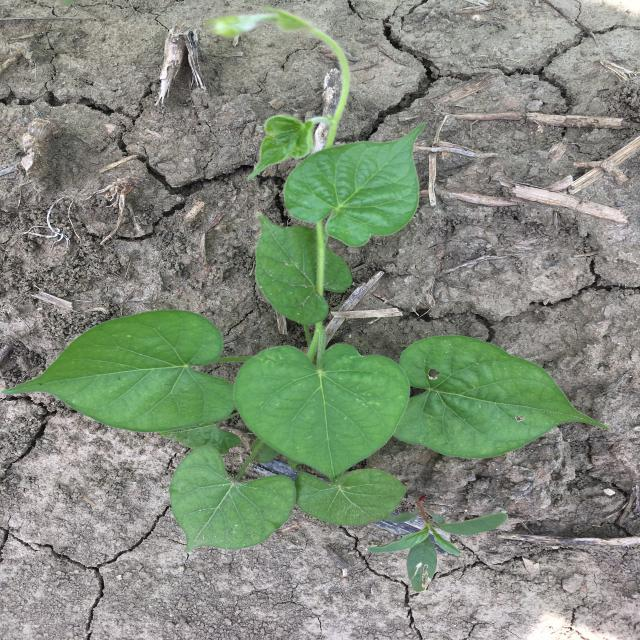MorningGlory: (2, 8, 611, 554)
Waterhemp: (367, 496, 509, 593)
